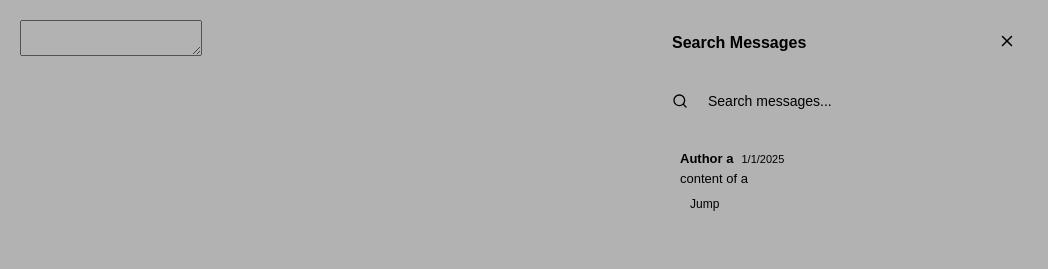
Test case: SearchPanel › Jump › F3 too-far renders its exact sentence in an alert the button points at, with one status region
Type "hello" into the field with placeholder "Search messages...". click: x=858, y=101
box: x1=696 y1=85 x2=1020 y2=117
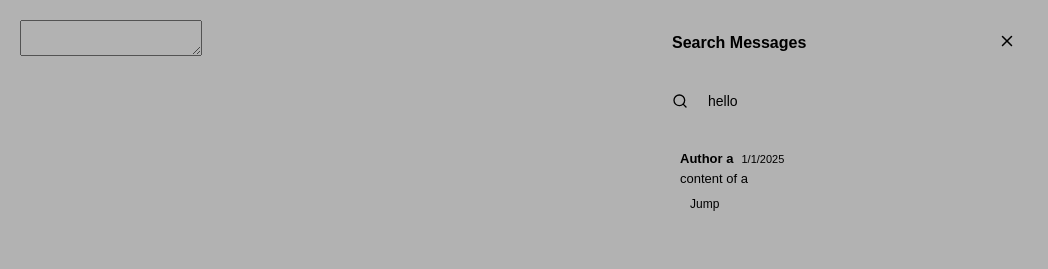
Click the button "Jump". click: x=705, y=204
box: x1=680 y1=194 x2=729 y2=214
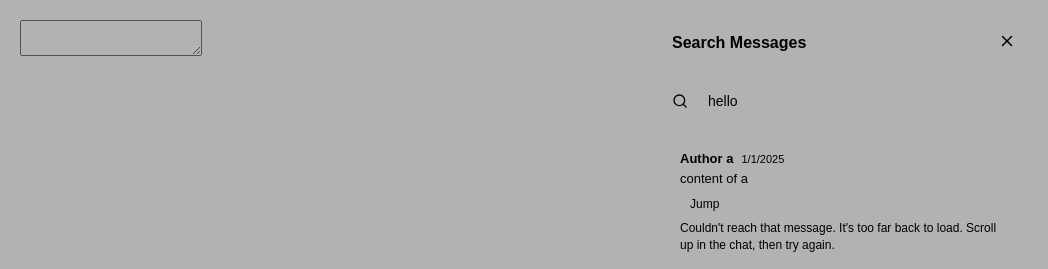
Result: the message shows "Couldn't reach that message. It's too far back to load. Scroll up in the chat, then try again." at x1=680 y1=221 x2=996 y2=252
